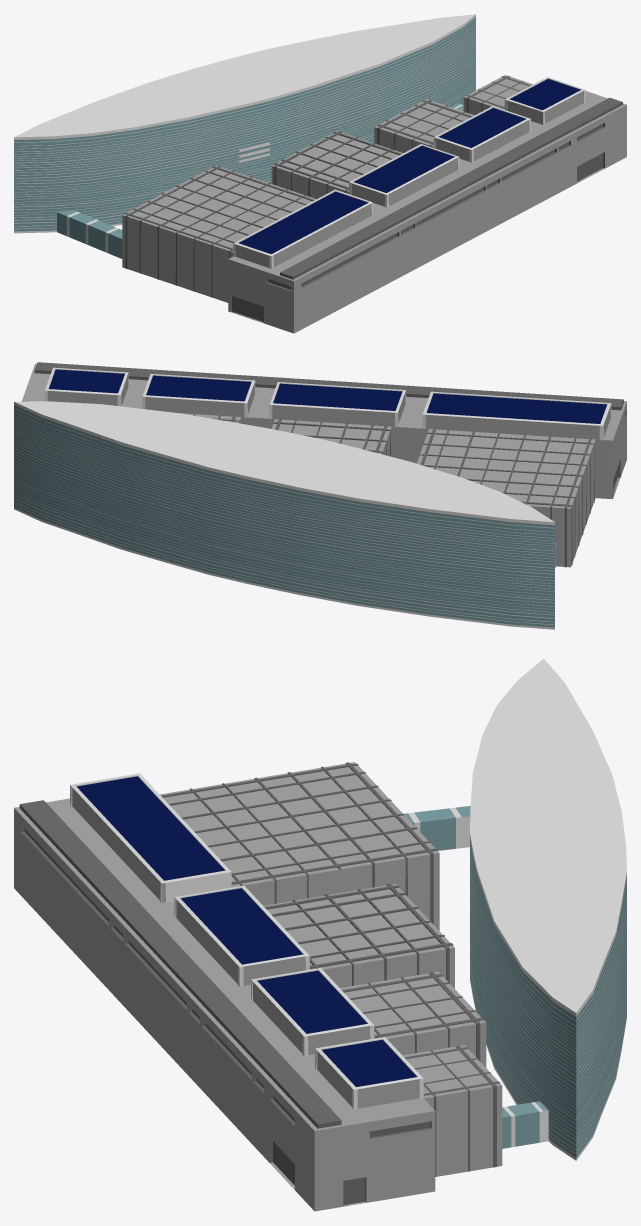
Rendered from TokyoInternationalForum(Weightlifting).fbx.
3 renders of one model, top to bottom at view 1: azimuth 30°, elevation 25°; view 2: azimuth 150°, elevation 25°; view 3: azimuth 270°, elevation 25°, orthographic. The views are drawn at different scales.
Parts seen in each view (by area): view 1: pCube80, pCube85, pCube81, pCube82, pCube83, pCube86, pCube84; view 2: pCube80, pCube85, pCube81, pCube82; view 3: pCube85, pCube80, pCube81, pCube82, pCube84, pCube83, pCube86, pCube87.
Part boxes in pixels (x1,y1,x2,y2): pCube80: (14,14,475,233); pCube85: (228,77,626,333); pCube81: (122,165,316,302); pCube82: (271,131,402,199); pCube83: (374,99,474,152); pCube86: (57,210,122,258); pCube84: (463,75,532,115); pCube80: (14,401,554,629); pCube85: (21,362,626,499); pCube81: (417,428,595,567); pCube82: (271,418,391,456); pCube85: (14,773,435,1211); pCube80: (470,658,626,1160); pCube81: (160,762,439,930); pCube82: (263,884,454,988); pCube84: (402,1045,502,1176); pCube83: (340,971,486,1067); pCube86: (404,806,470,850); pCube87: (502,1101,548,1148).
Bounding box in the file's own units: 19.01 × 3.35 × 12.18.
